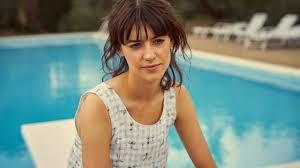normal: (110, 4, 185, 88)
